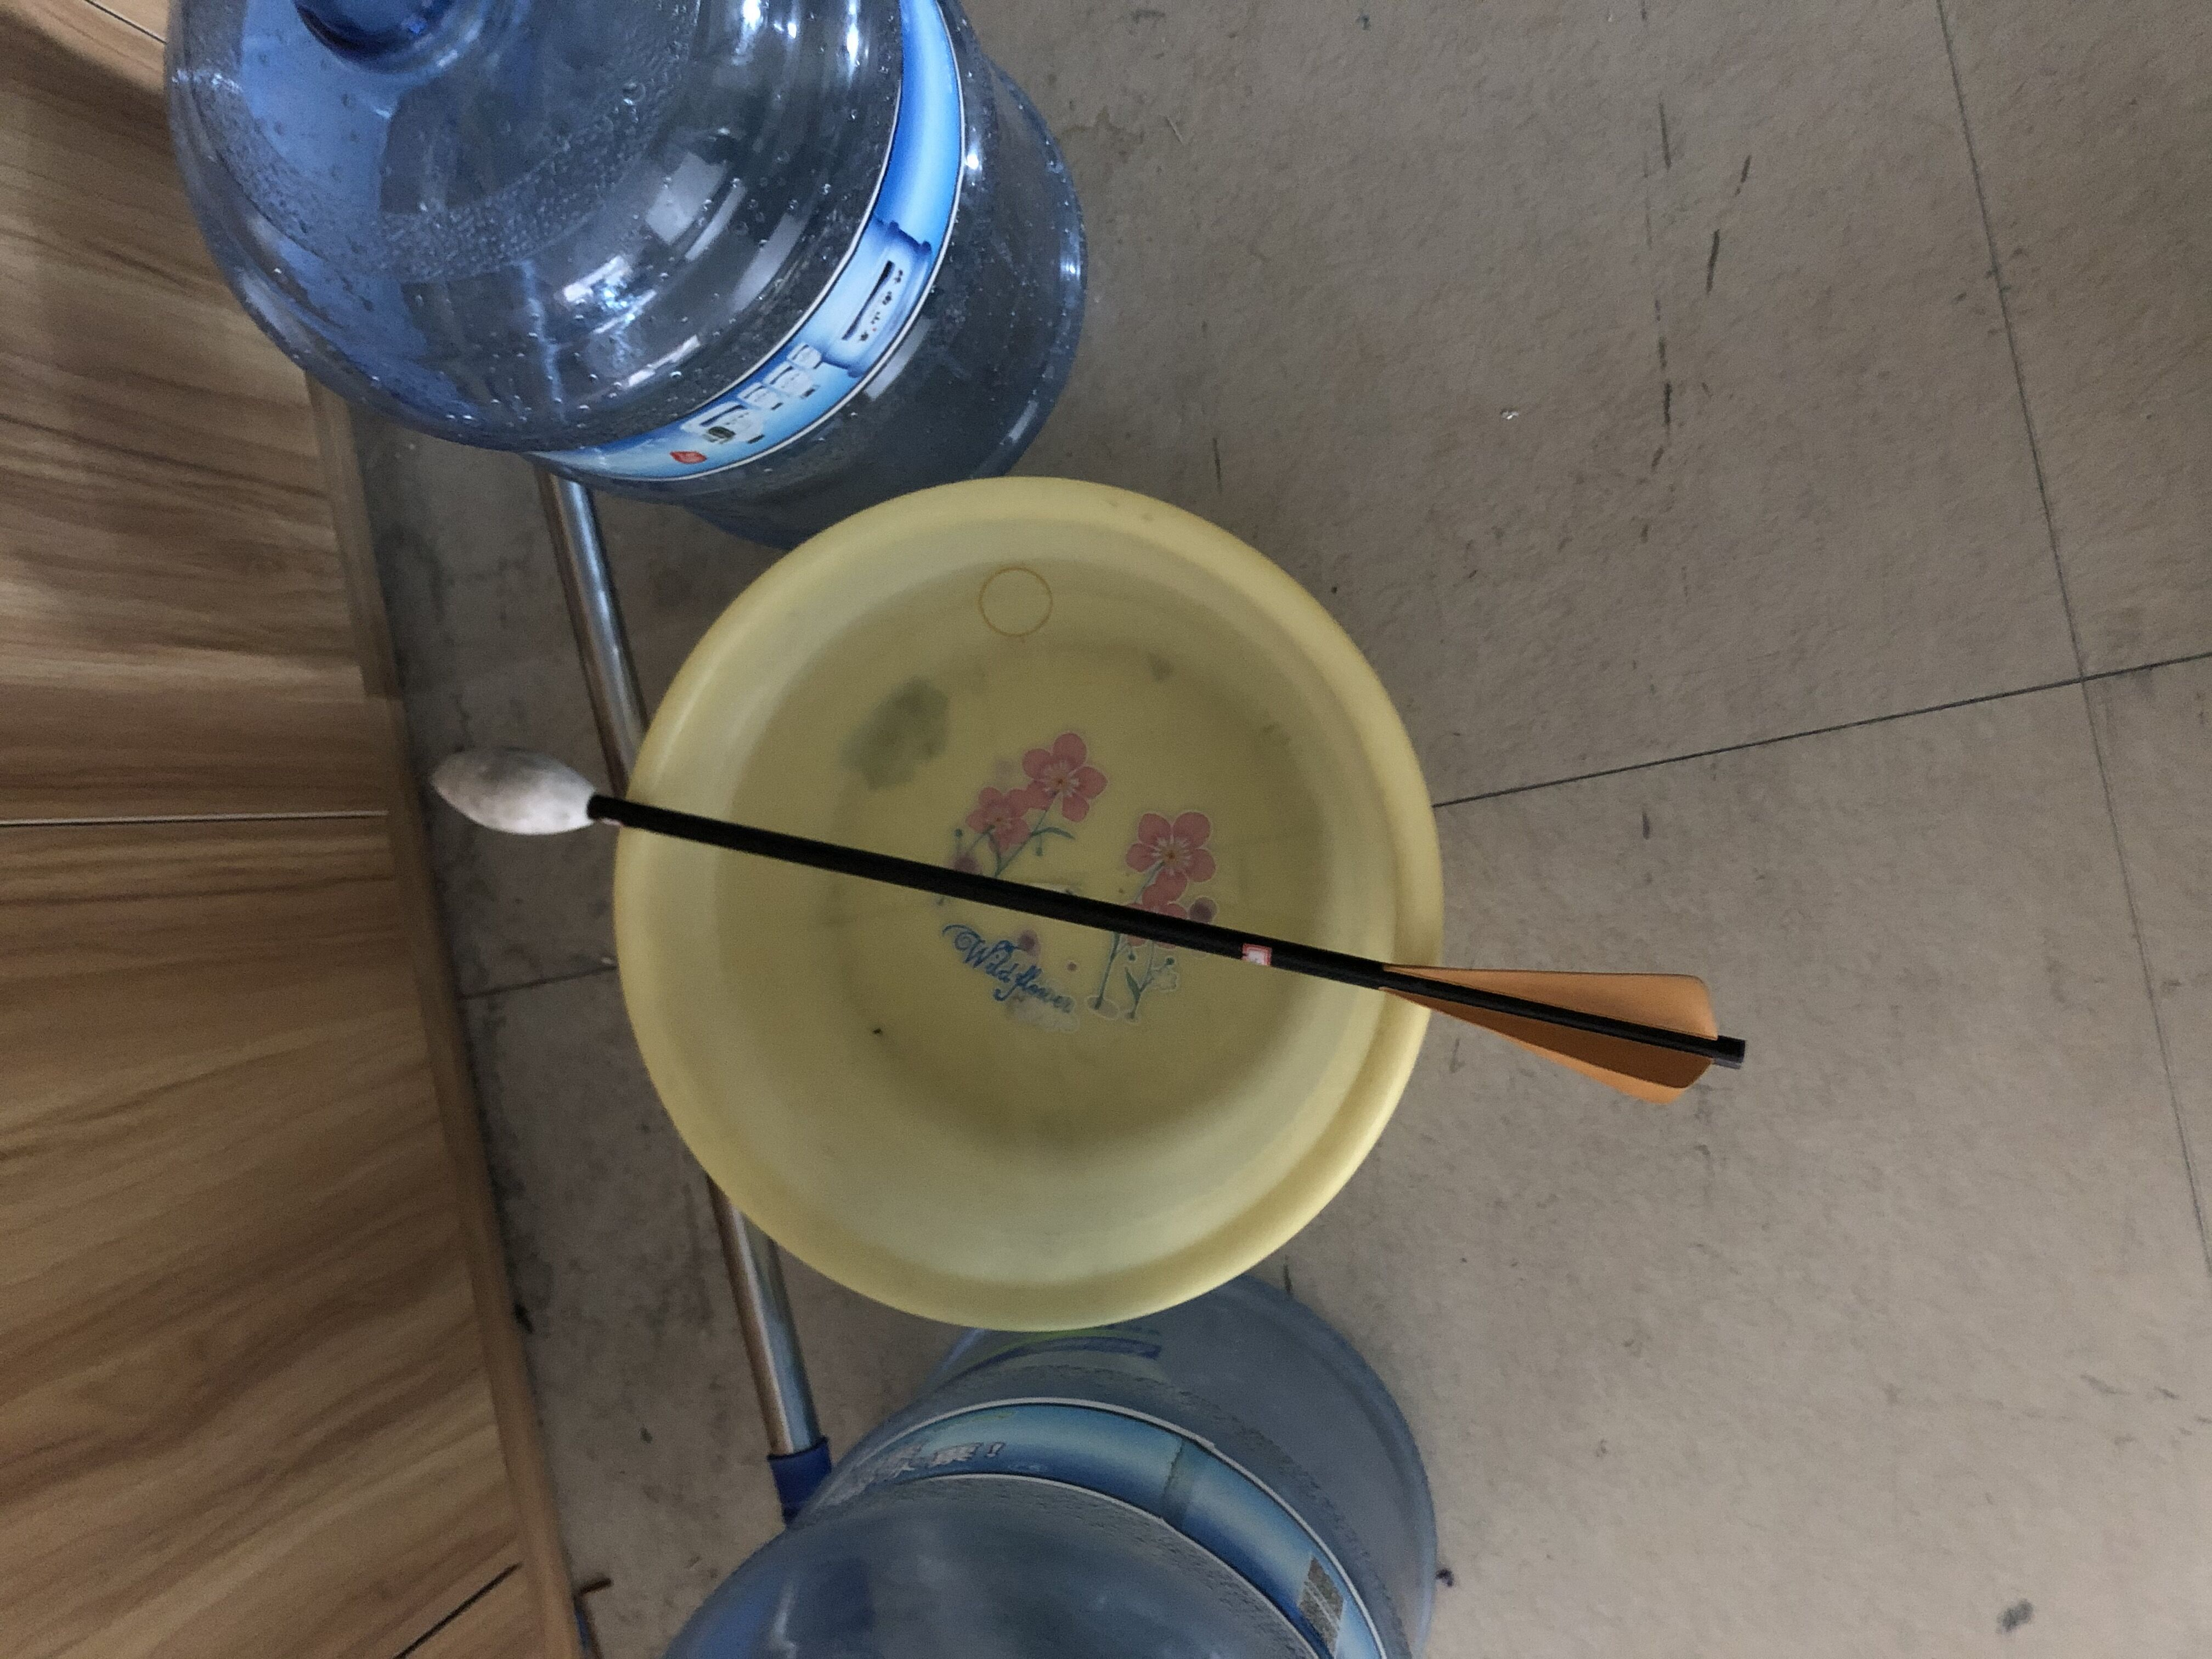arrow: (430, 748, 1749, 1103)
arrowFront: (430, 742, 603, 838)
